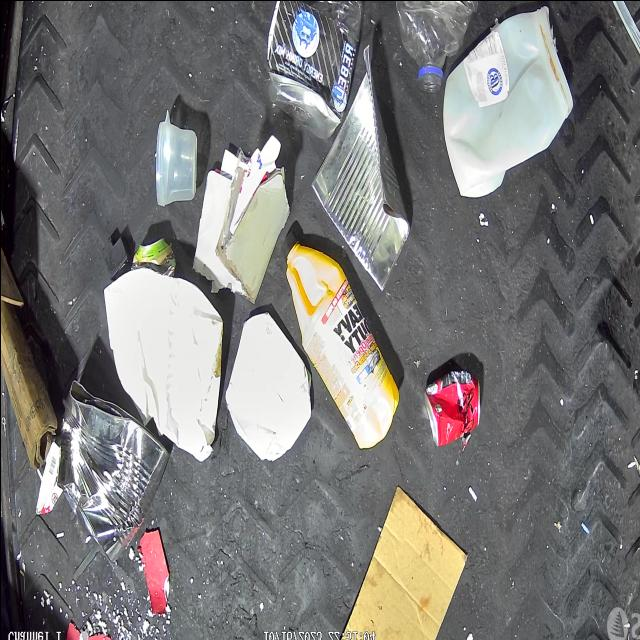can: (56, 380, 170, 564), (427, 367, 484, 450), (136, 238, 176, 272)
milk_jug: (442, 4, 573, 197)
non_white_jug: (280, 232, 395, 452)
plastic_bottle: (266, 0, 362, 141), (395, 0, 481, 92)
